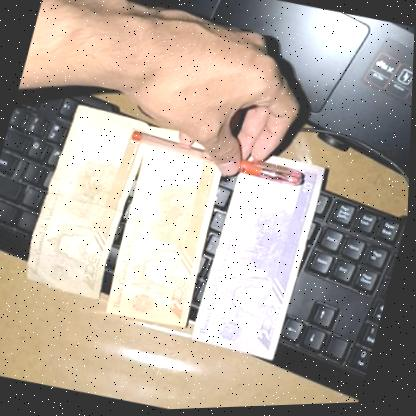five-back-vef: (22, 100, 159, 302)
ten-back-vef: (193, 150, 329, 368)
twenty-back-vef: (102, 142, 231, 333)
